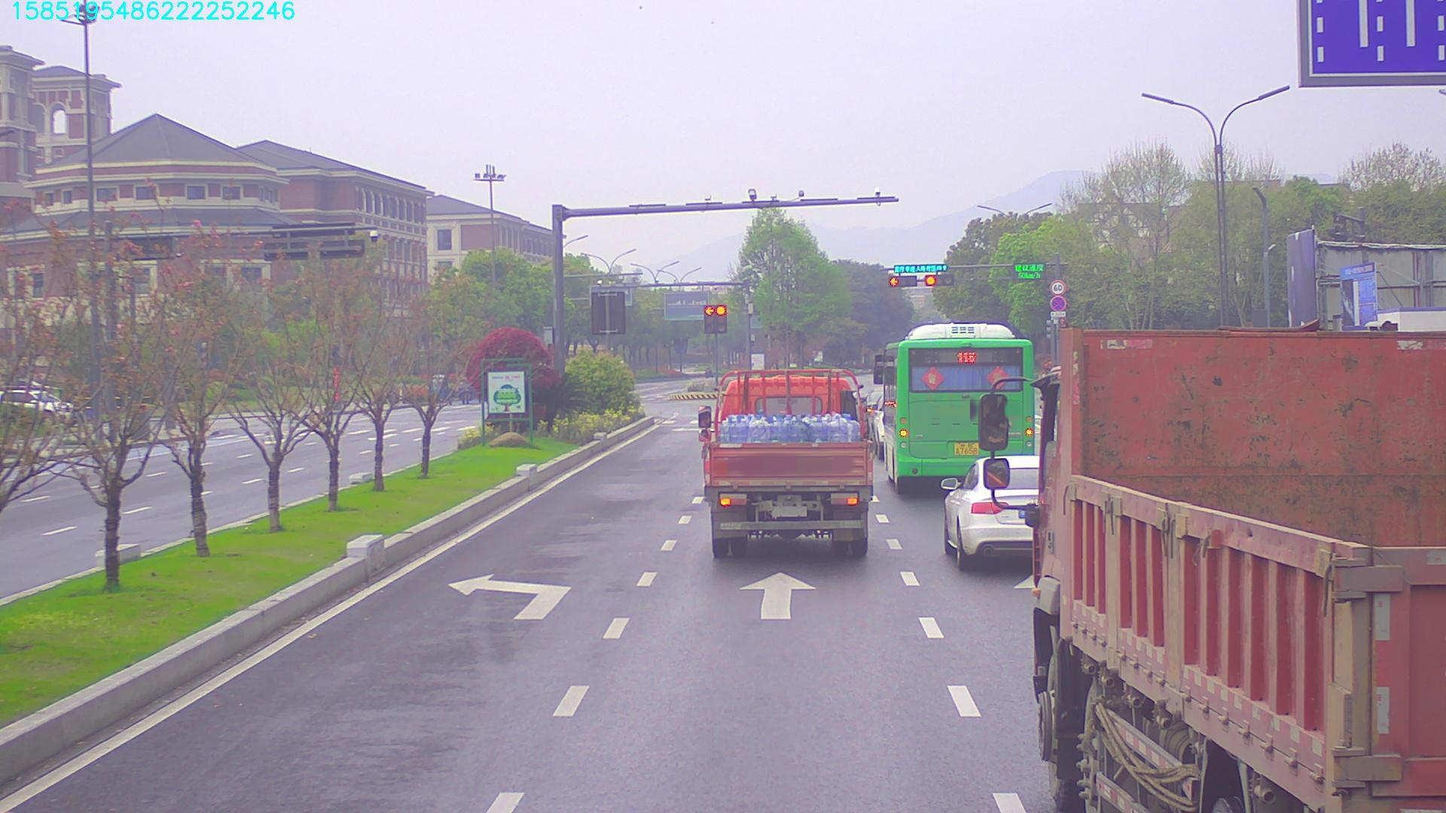red: (889, 276, 917, 288), (926, 275, 955, 286)
wait_on: (891, 261, 952, 273)
